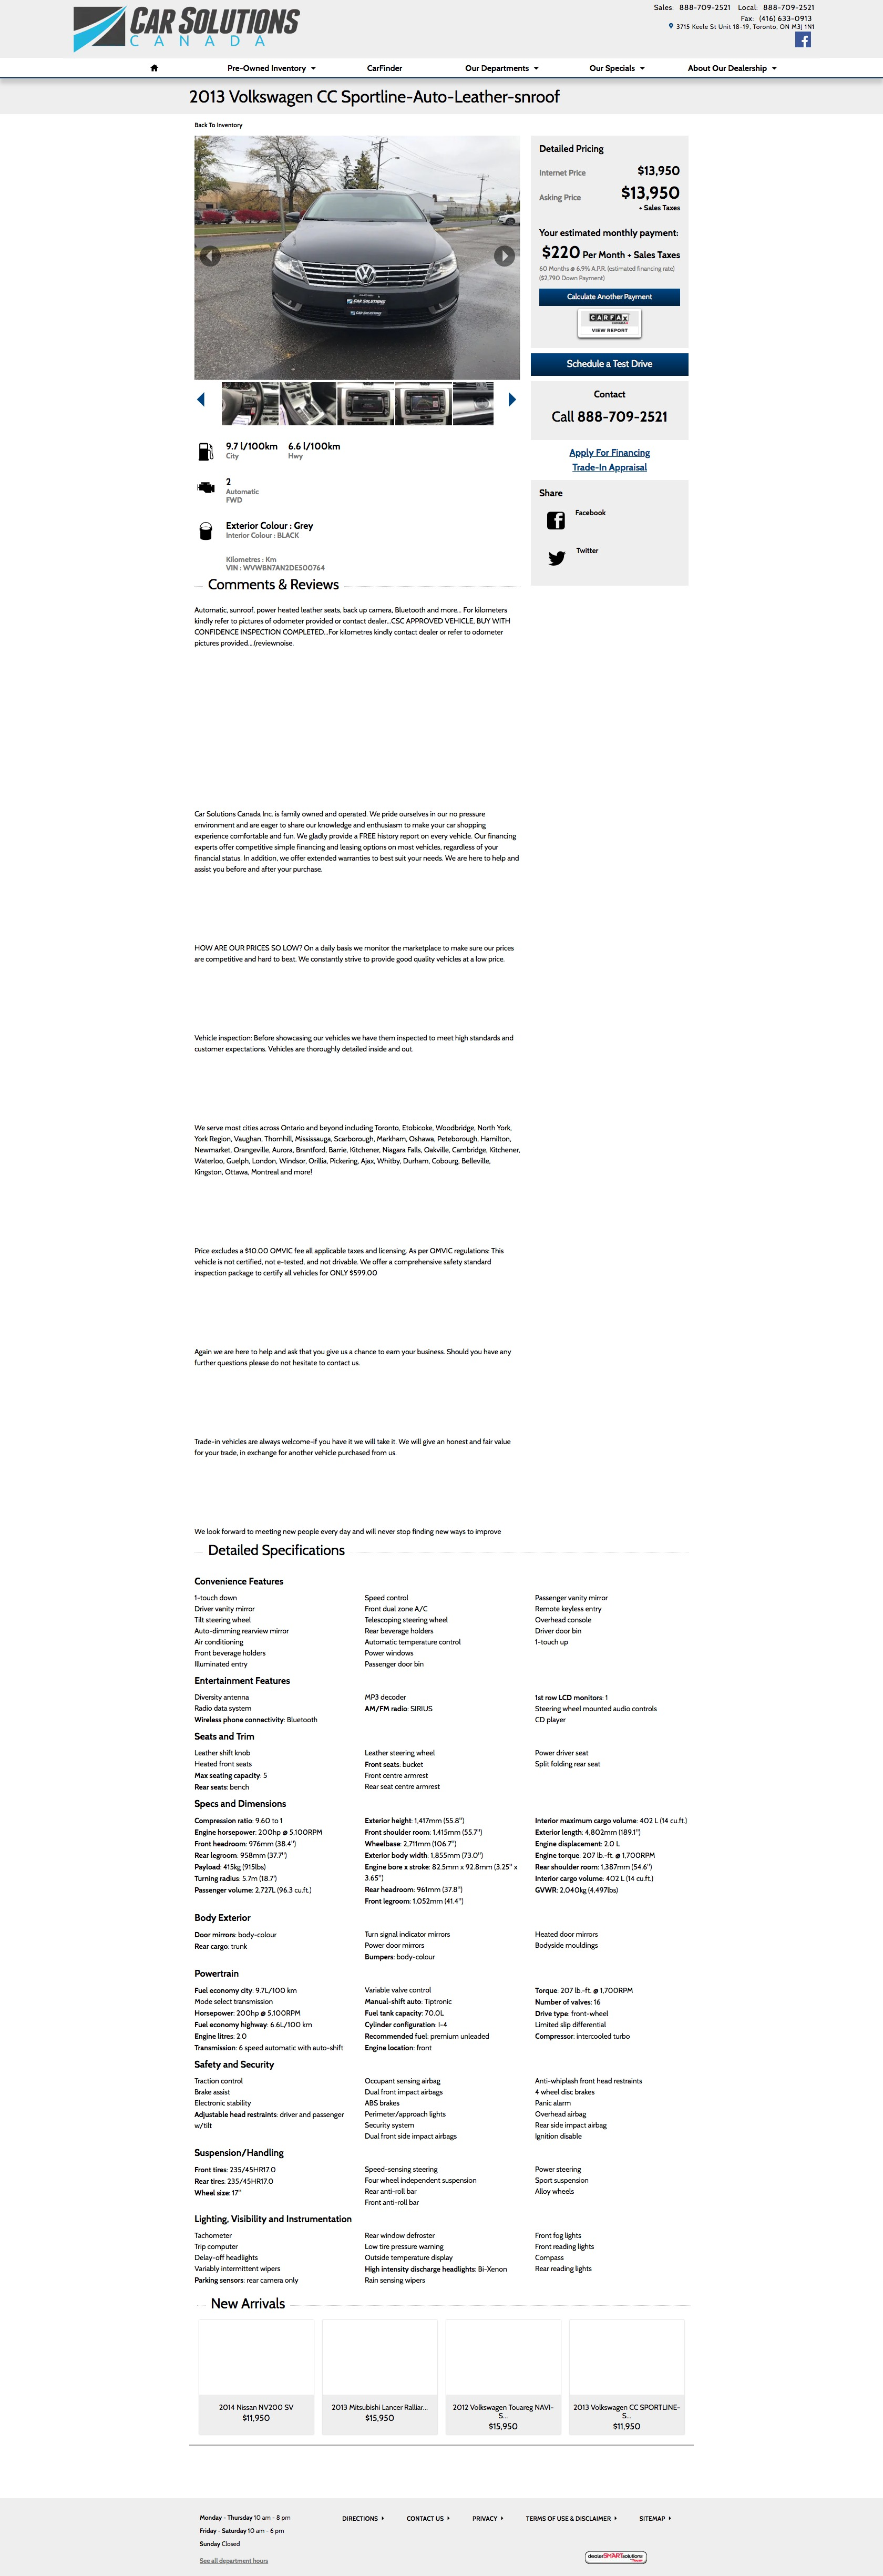car: (509, 393, 517, 407)
